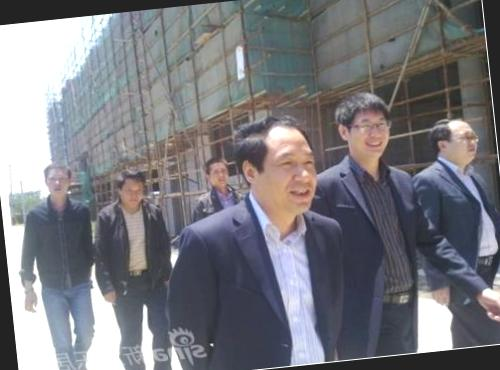no_helmet: (240, 114, 322, 217), (330, 86, 401, 164), (429, 111, 484, 166), (113, 167, 150, 213), (40, 158, 76, 204), (200, 153, 231, 196)
